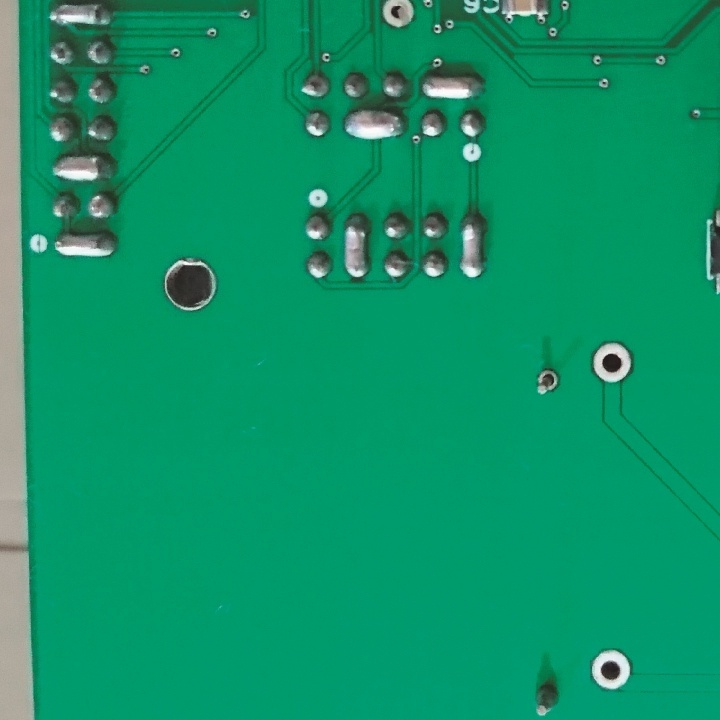F: (585, 646, 634, 692), (591, 337, 633, 386), (380, 1, 418, 33), (530, 365, 561, 396)
P: (340, 104, 408, 144), (47, 149, 119, 185), (50, 226, 119, 263), (340, 210, 372, 283), (456, 209, 487, 280), (419, 69, 486, 101), (45, 3, 115, 31)
